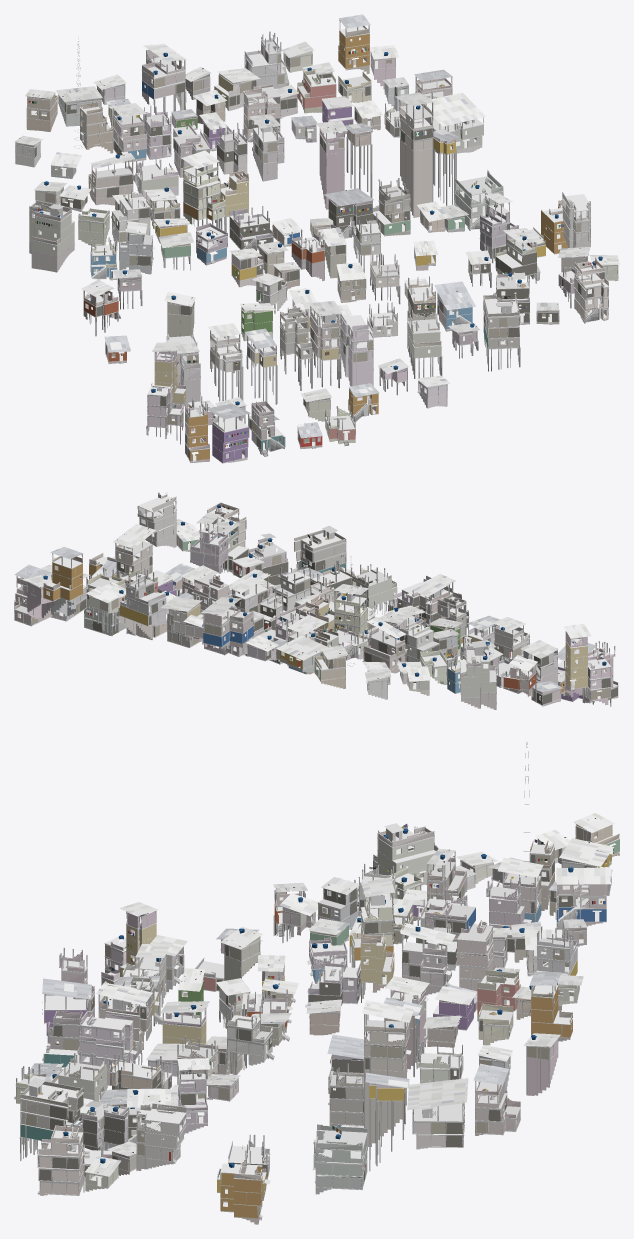
3 renders of one model, top to bottom at view 1: azimuth 30°, elevation 25°; view 2: azimuth 150°, elevation 25°; view 3: azimuth 270°, elevation 25°, orthographic. The views are drawn at different scales.
Parts seen in each view (by area): view 1: T_25_28; view 2: T_25_28; view 3: T_25_28.
Boxes of the visible parts, left/top/right/bottom form: T_25_28: left=14, top=14, right=619, bottom=463; T_25_28: left=14, top=492, right=619, bottom=709; T_25_28: left=14, top=742, right=619, bottom=1224.
Size of the model in its own units: 135 by 73.38 by 122.
